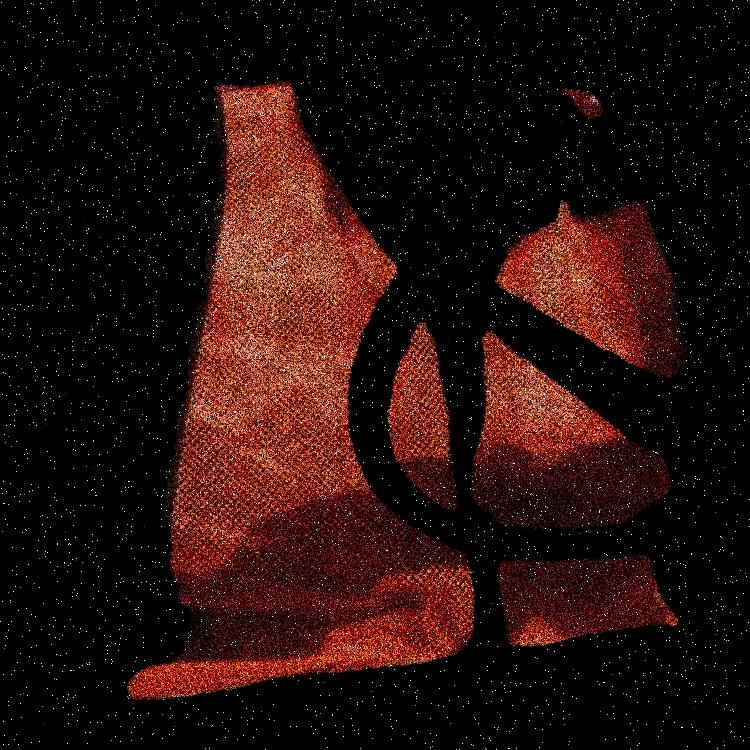Colete: (230, 0, 413, 749)
